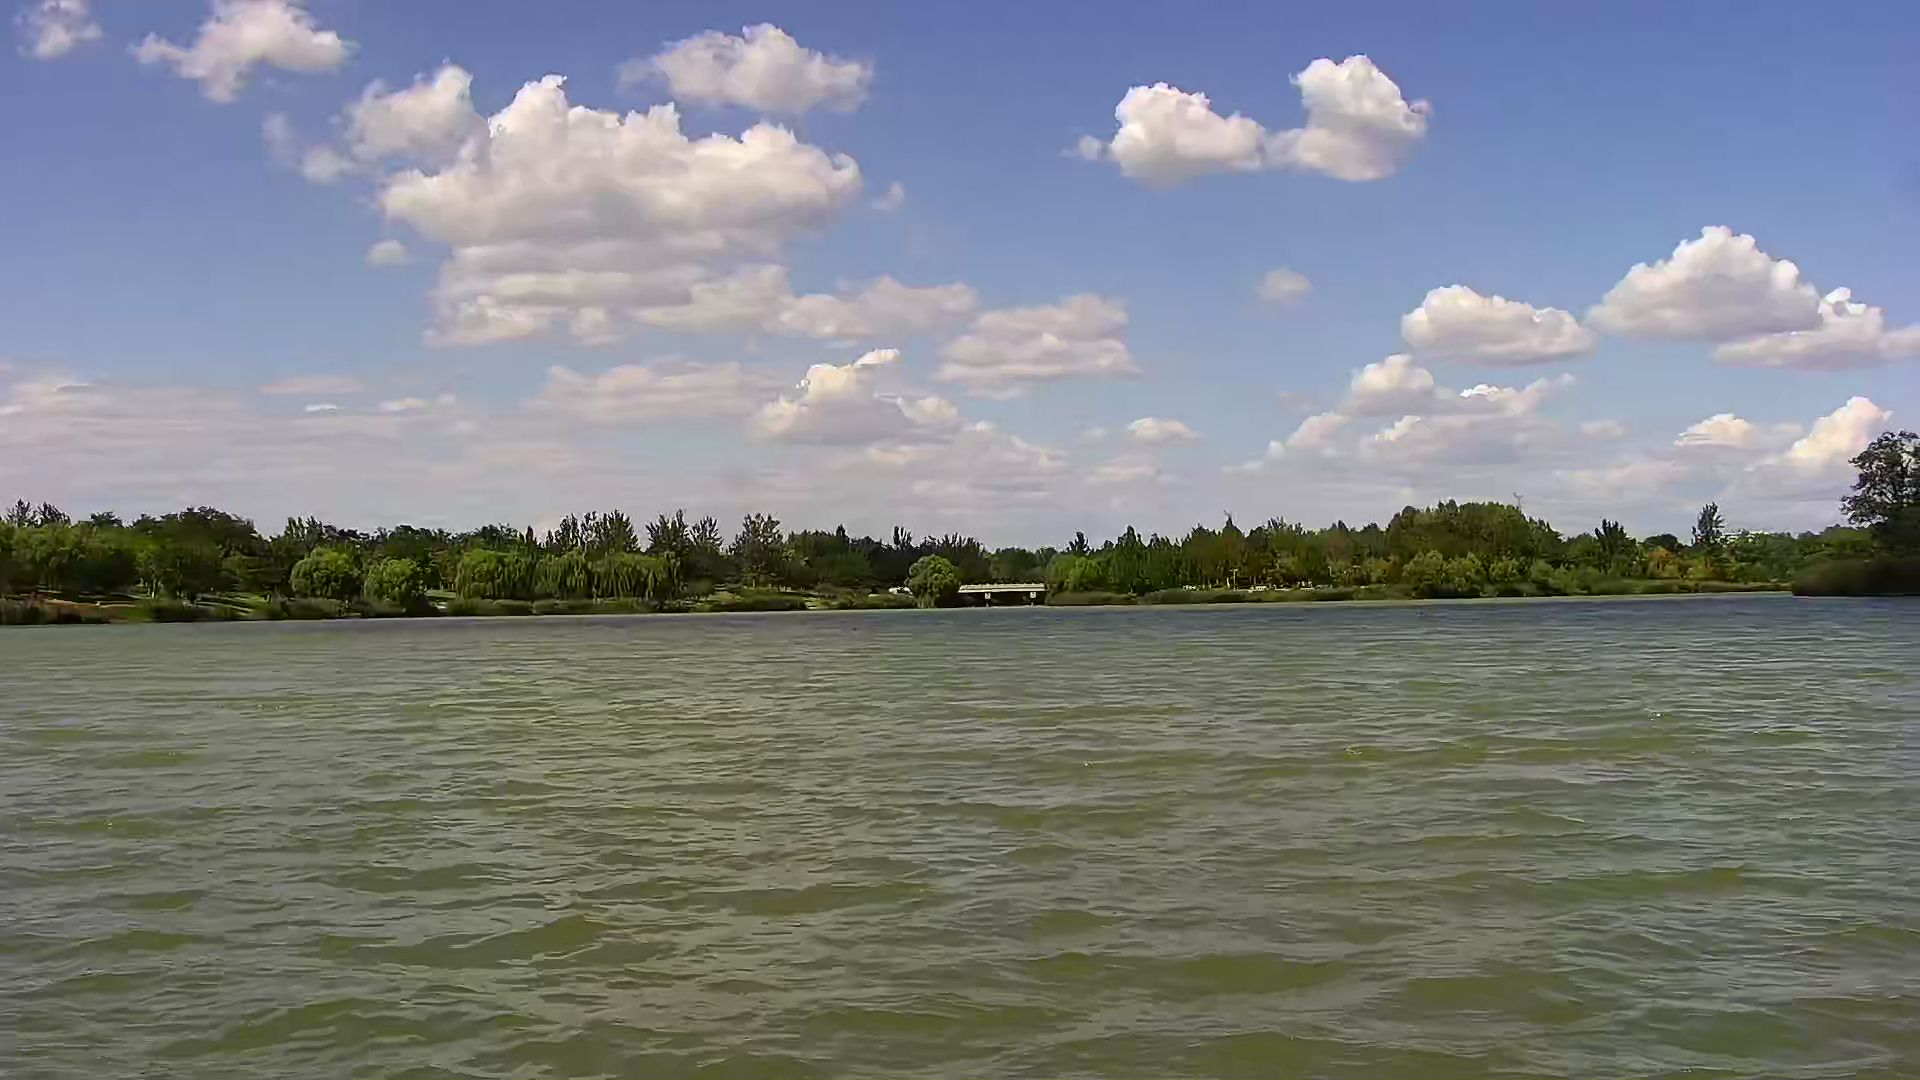bridge: (956, 578, 1052, 611)
